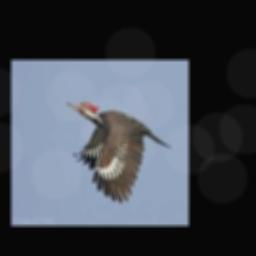Woodpecker: (67, 101, 172, 203)
